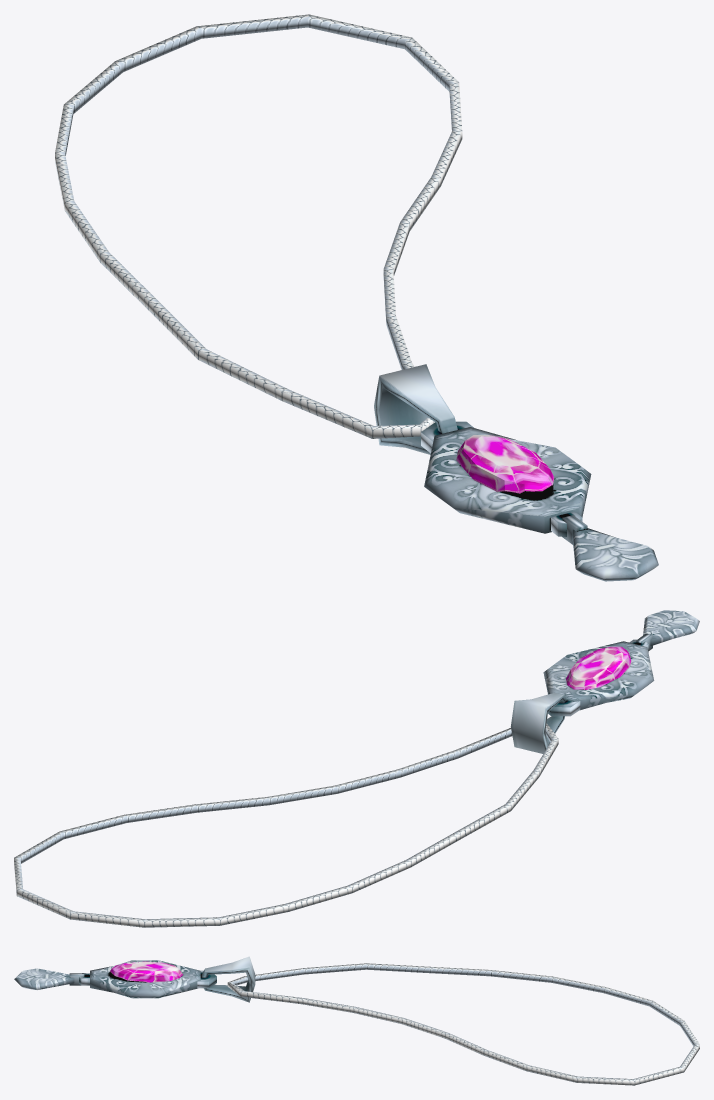
Rendered from pendant_05.fbx.
The picture shows the model from 3 angles, top to bottom: view 1: azimuth 30°, elevation 25°; view 2: azimuth 150°, elevation 25°; view 3: azimuth 270°, elevation 25°; orthographic projection. The views are drawn at different scales.
Parts seen in each view (by area): view 1: pendant_05; view 2: pendant_05; view 3: pendant_05.
Boxes of the visible parts, box(x1,y1,x2,y2) form: pendant_05: box(55, 14, 658, 581); pendant_05: box(14, 610, 699, 927); pendant_05: box(14, 956, 699, 1085).
Size of the model in its own units: 14.23 by 1.97 by 35.03.
